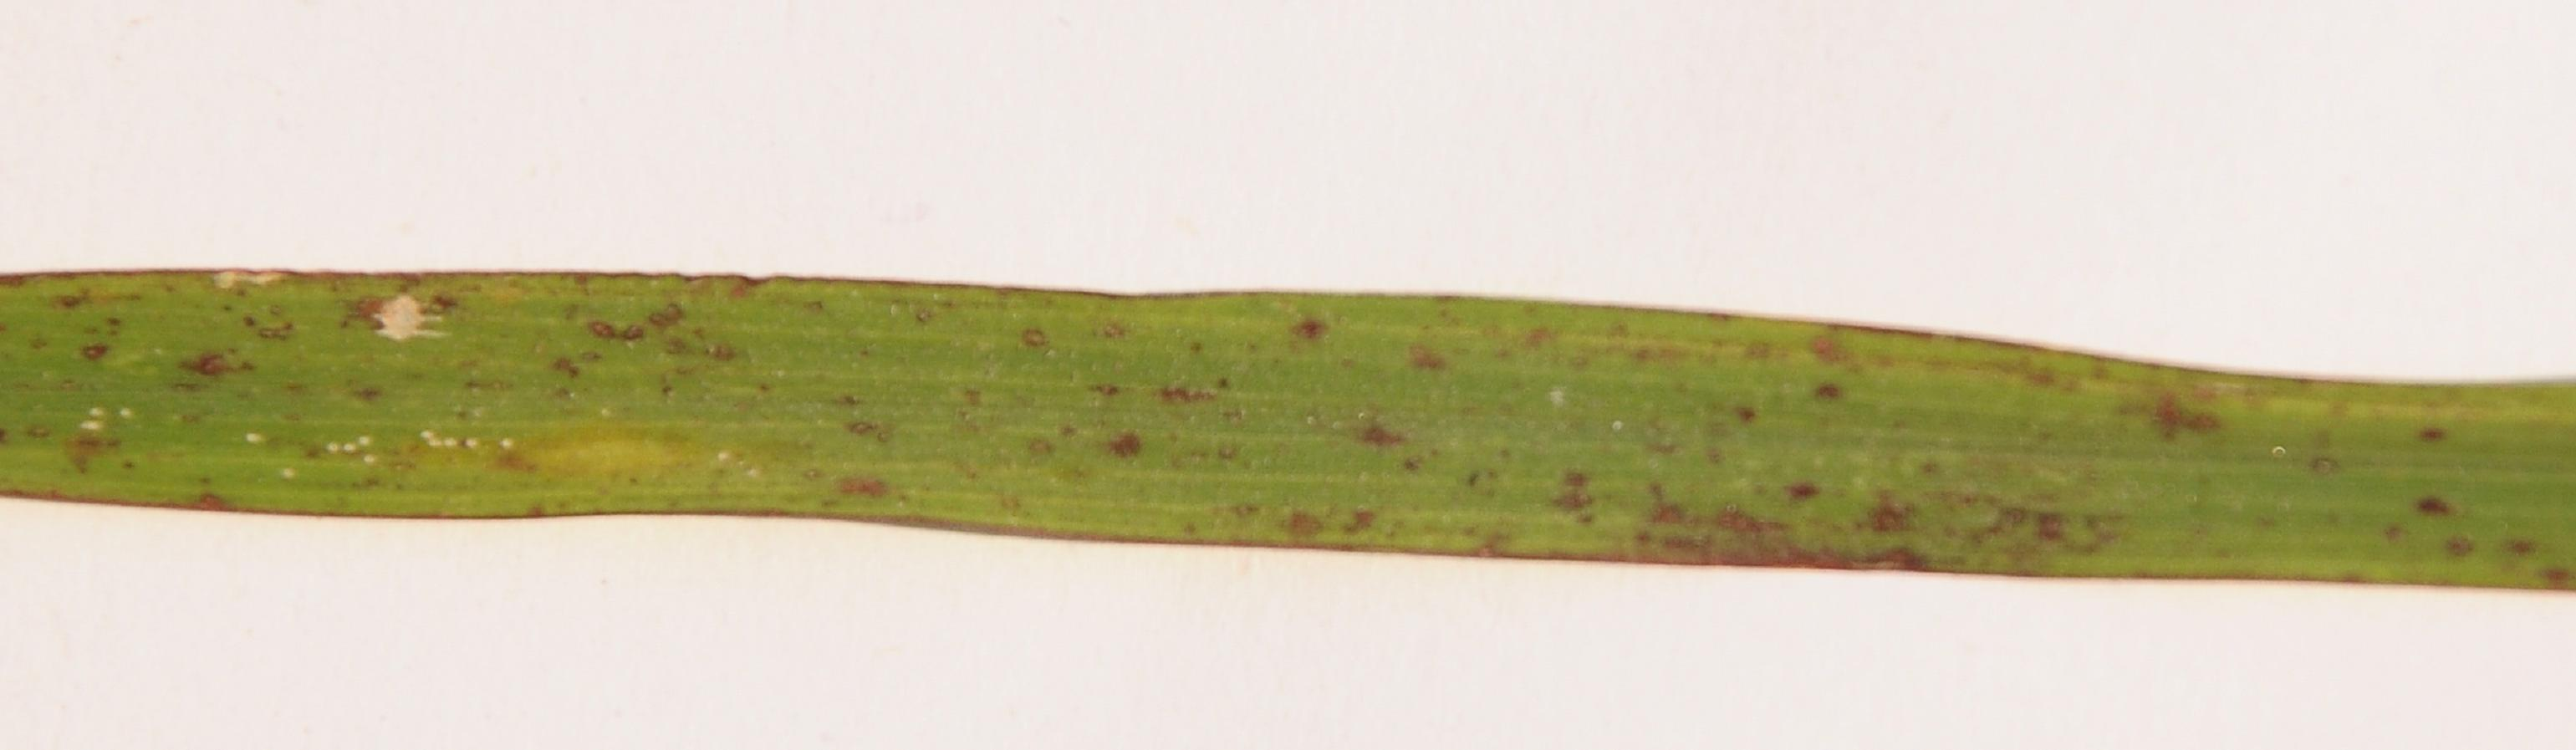leaf_smut: (205, 269, 2062, 571)
